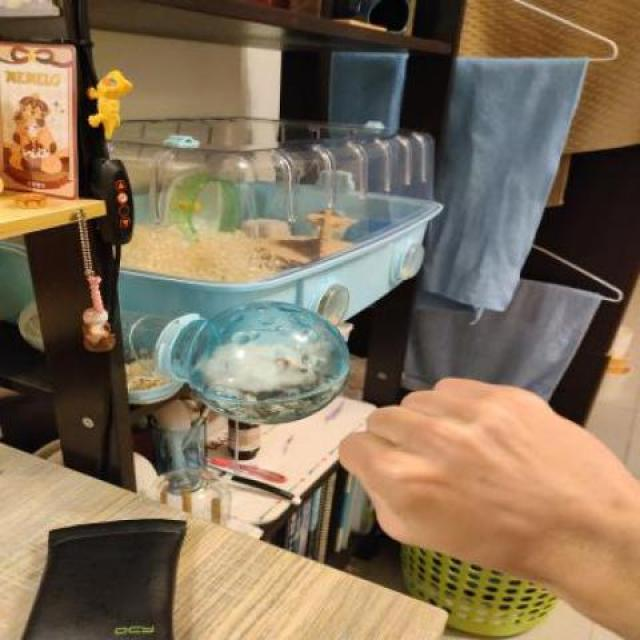Closed Hand: (309, 367, 640, 614)
